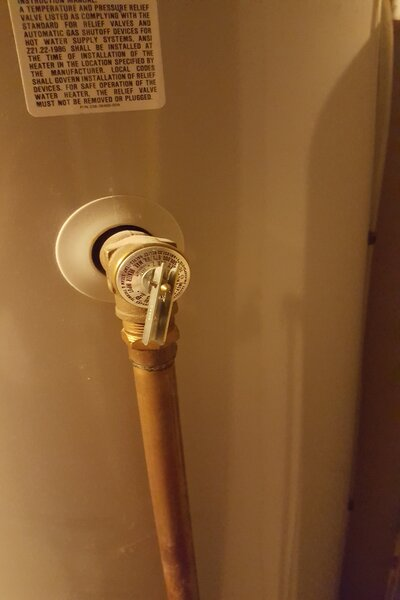valve: (89, 223, 191, 372)
